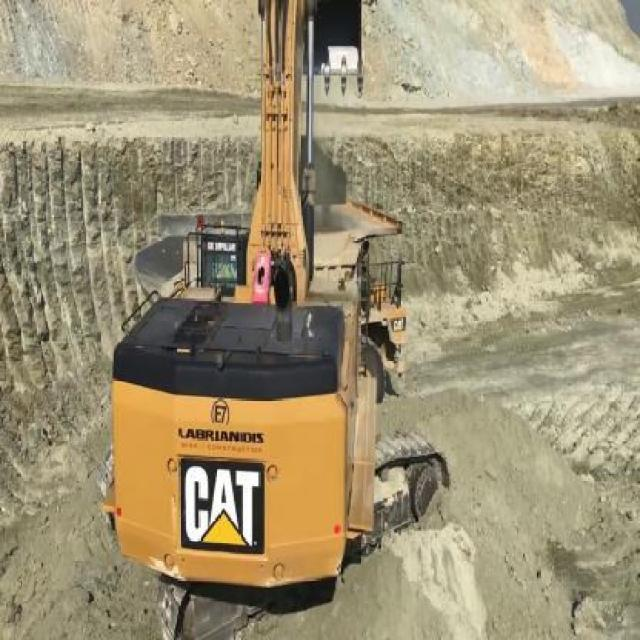Excavator: (97, 0, 457, 638)
